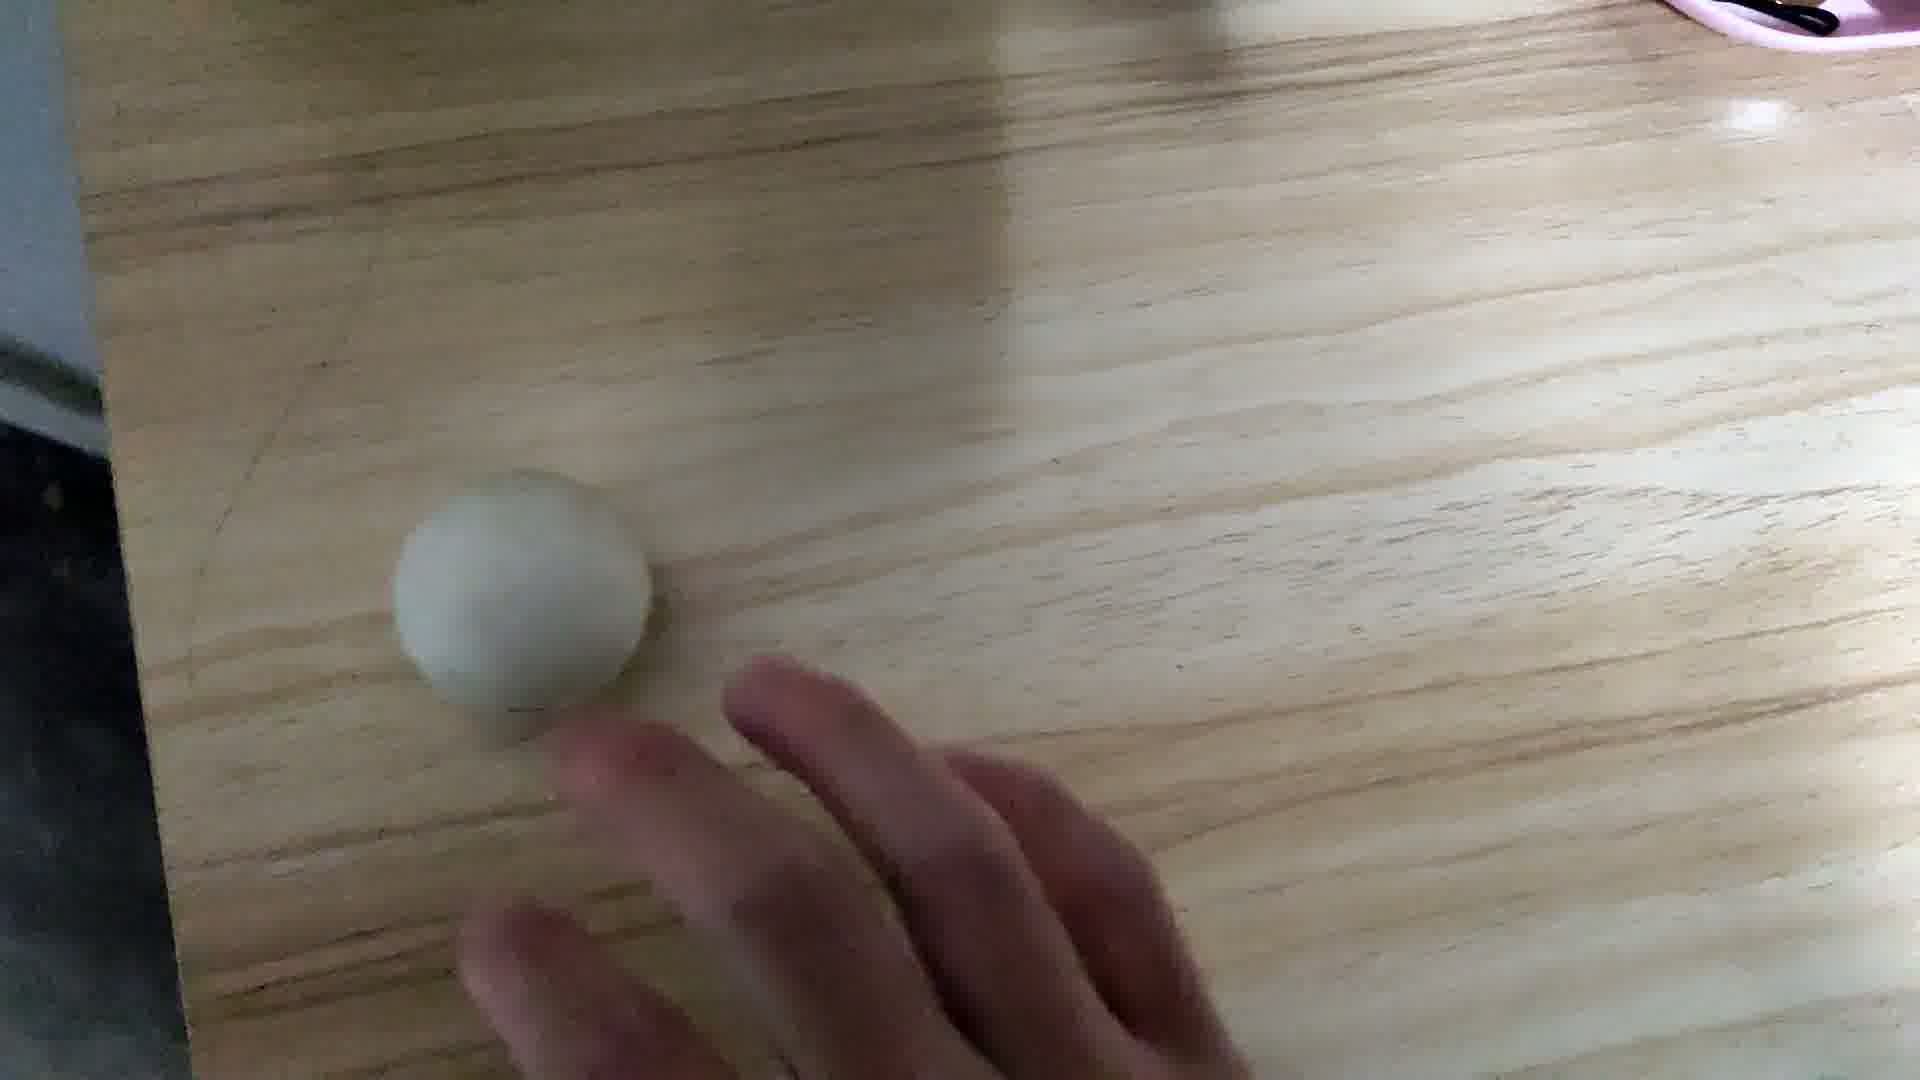Ball: (393, 473, 655, 700)
